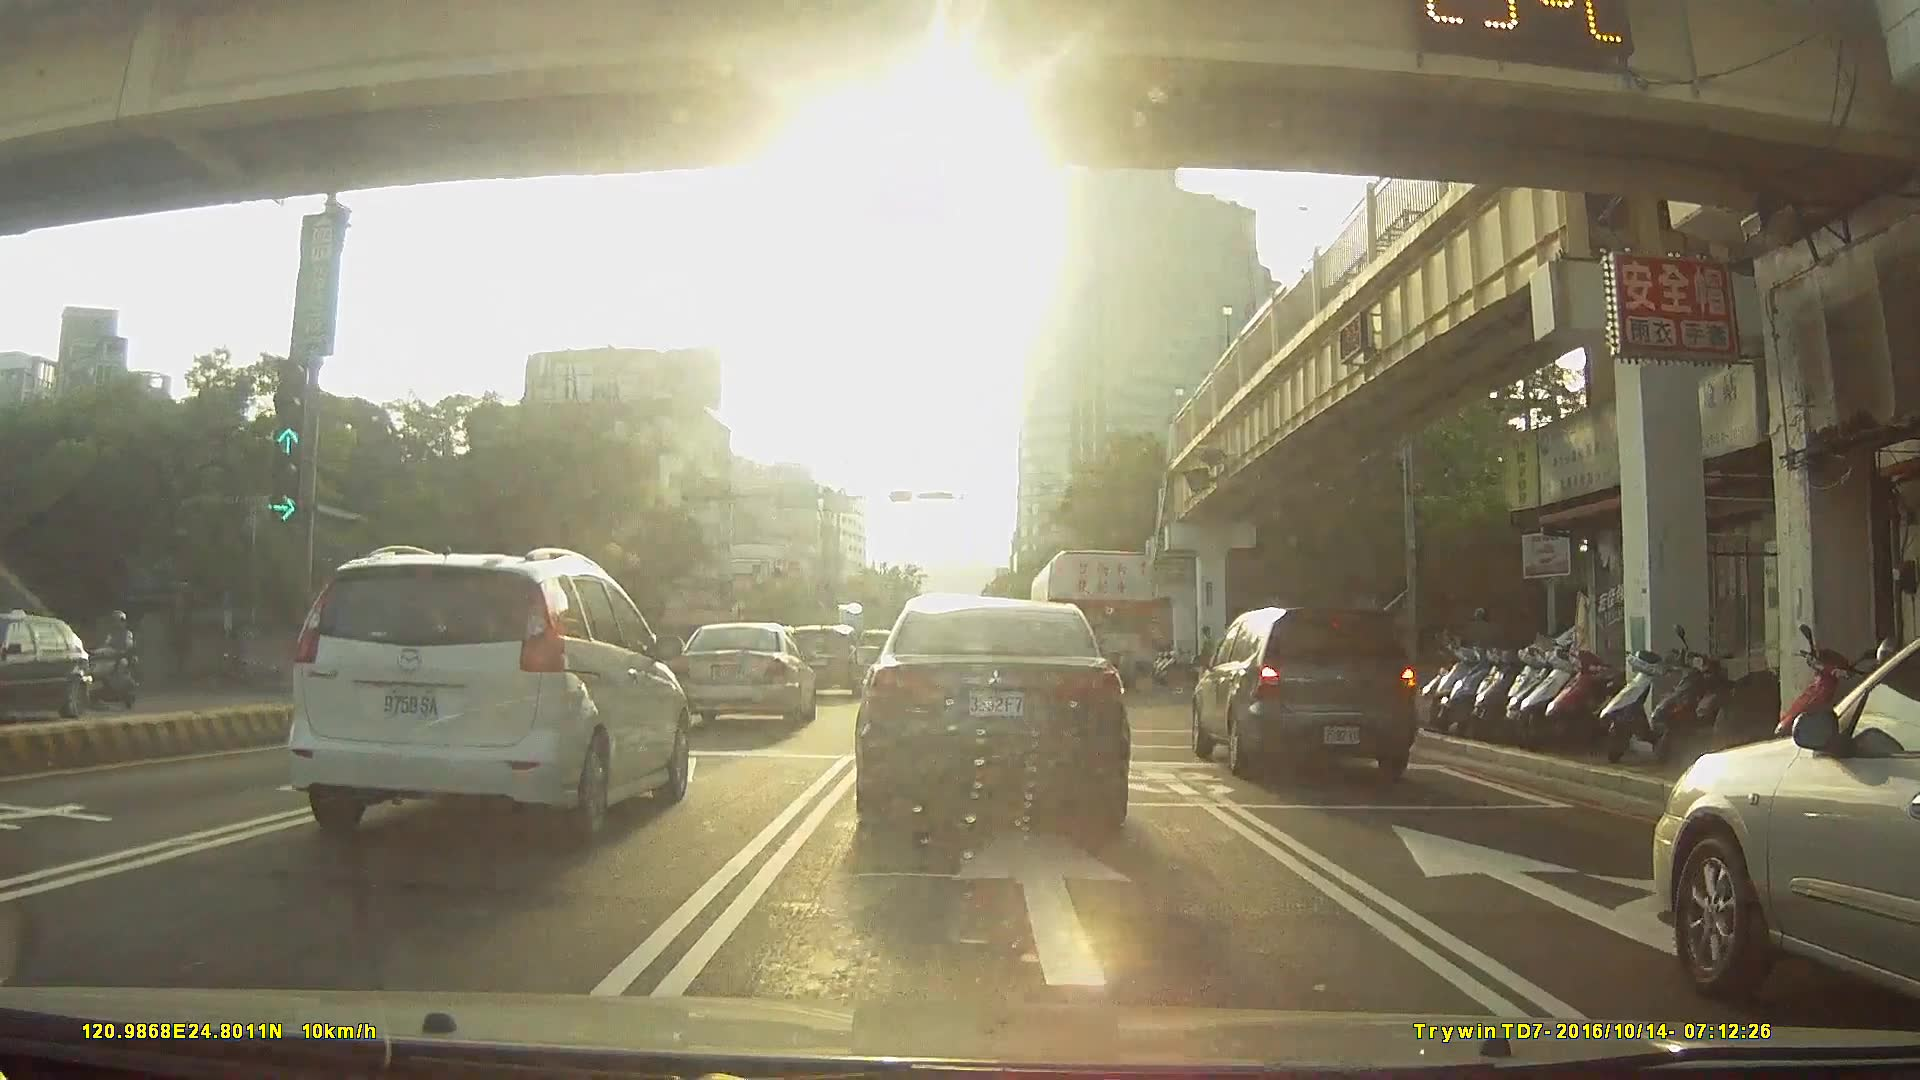pedestrian: (1205, 619, 1232, 682)
rider: (82, 607, 138, 710)
vehicle: (284, 541, 695, 844), (1647, 639, 1920, 1011), (852, 590, 1130, 836), (1194, 602, 1420, 777), (1027, 545, 1153, 689), (675, 618, 816, 726), (1, 614, 119, 722), (779, 623, 863, 696)
